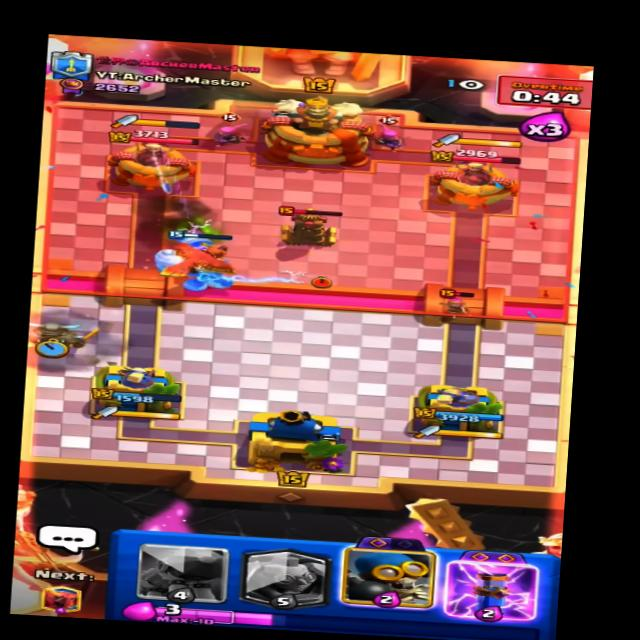Archer: (438, 284, 482, 315)
Evoarchers: (211, 114, 249, 148), (369, 115, 410, 146)
Tesla: (276, 206, 348, 251)
